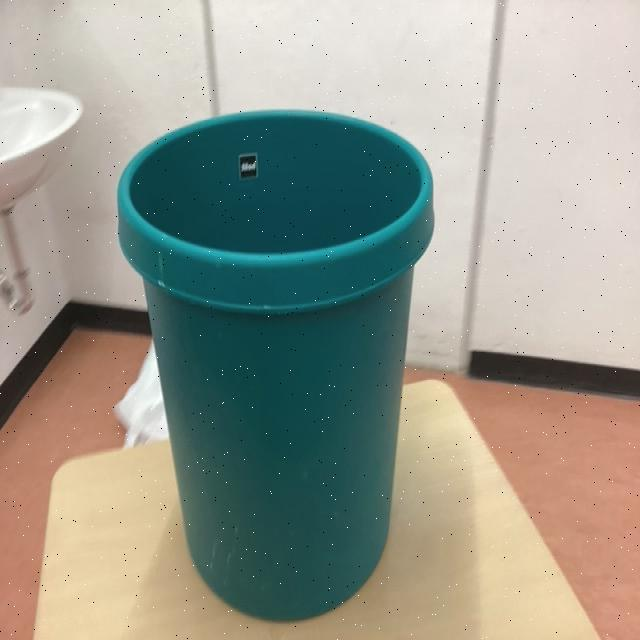garbage container: (109, 83, 453, 620)
